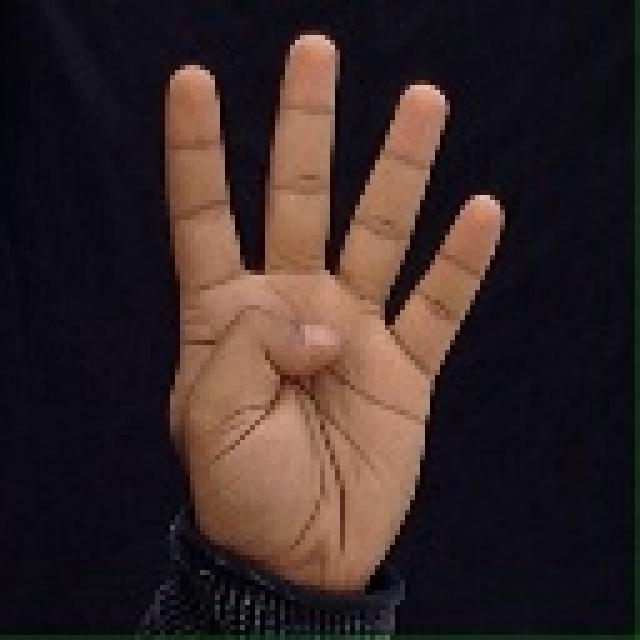Numeric-4: (162, 28, 502, 592)
